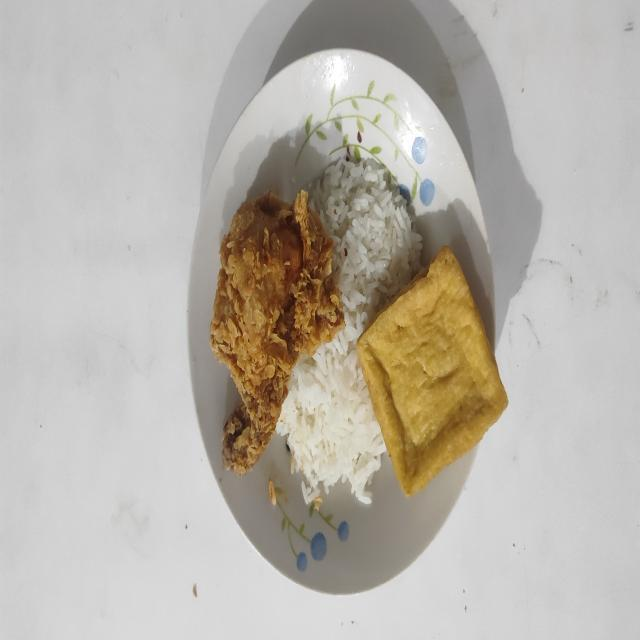nasi_putih: (278, 157, 422, 503)
tahu_goreng: (357, 246, 508, 496)
